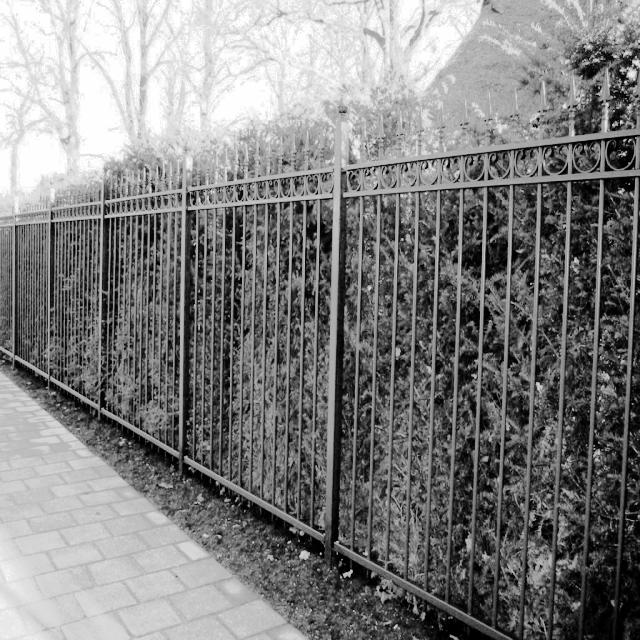fences: (344, 99, 640, 640), (103, 126, 333, 563), (0, 186, 89, 398)
